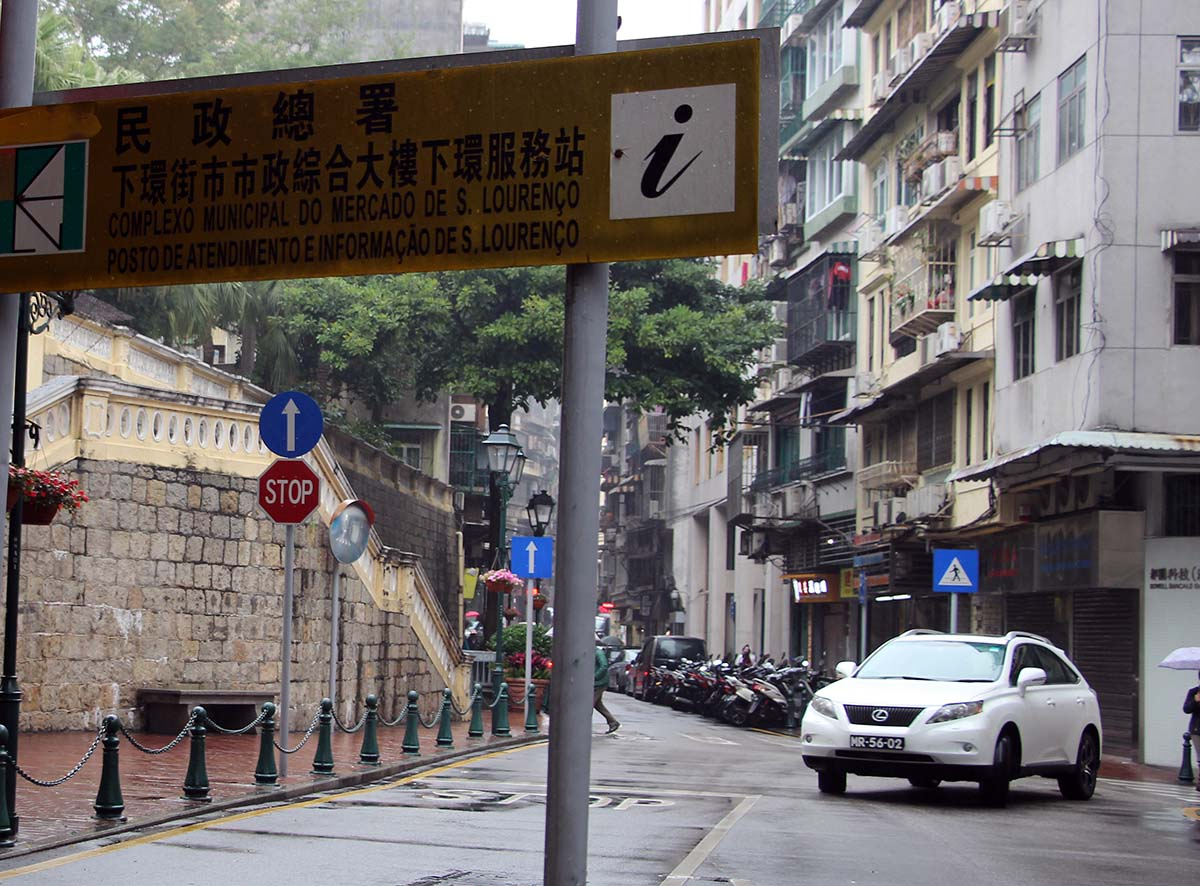stop: (261, 461, 319, 528)
